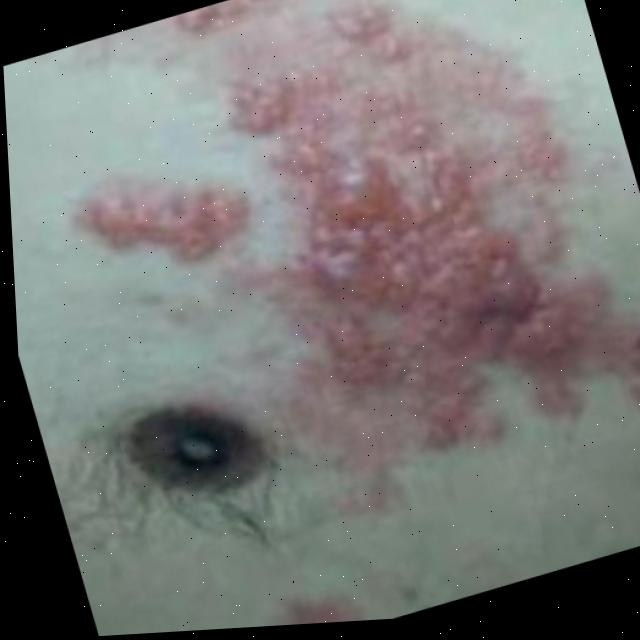Shingles: (205, 0, 636, 490), (81, 166, 254, 294), (624, 316, 640, 419)
